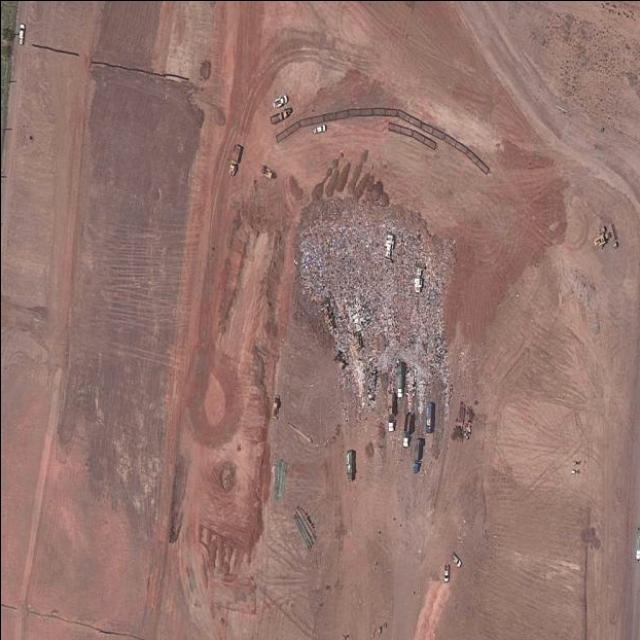dump_site: (295, 202, 451, 421), (338, 149, 344, 158)
